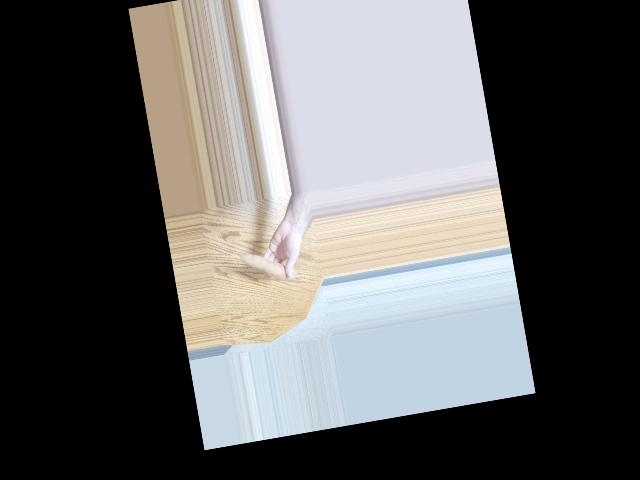sweet_potato: (239, 244, 298, 288)
